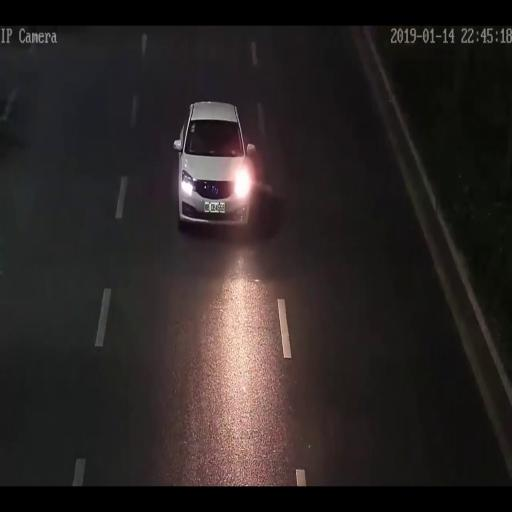License plate: (204, 202, 226, 214)
Vehicle: (173, 100, 256, 228)
